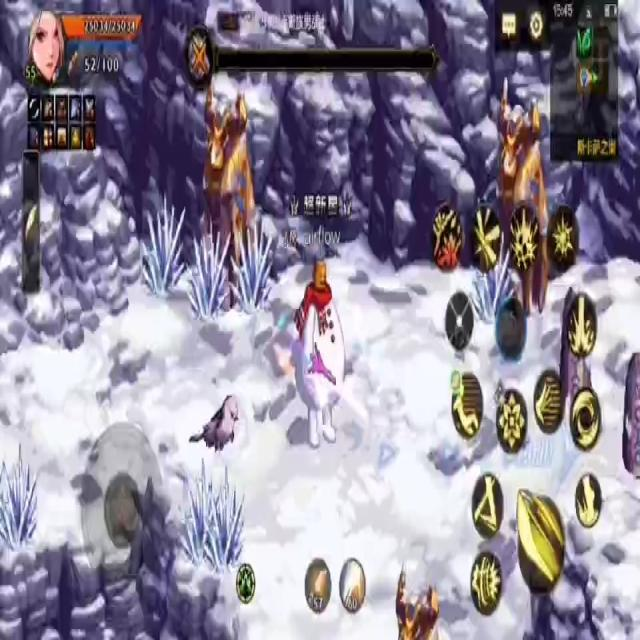player: (291, 253, 351, 450)
